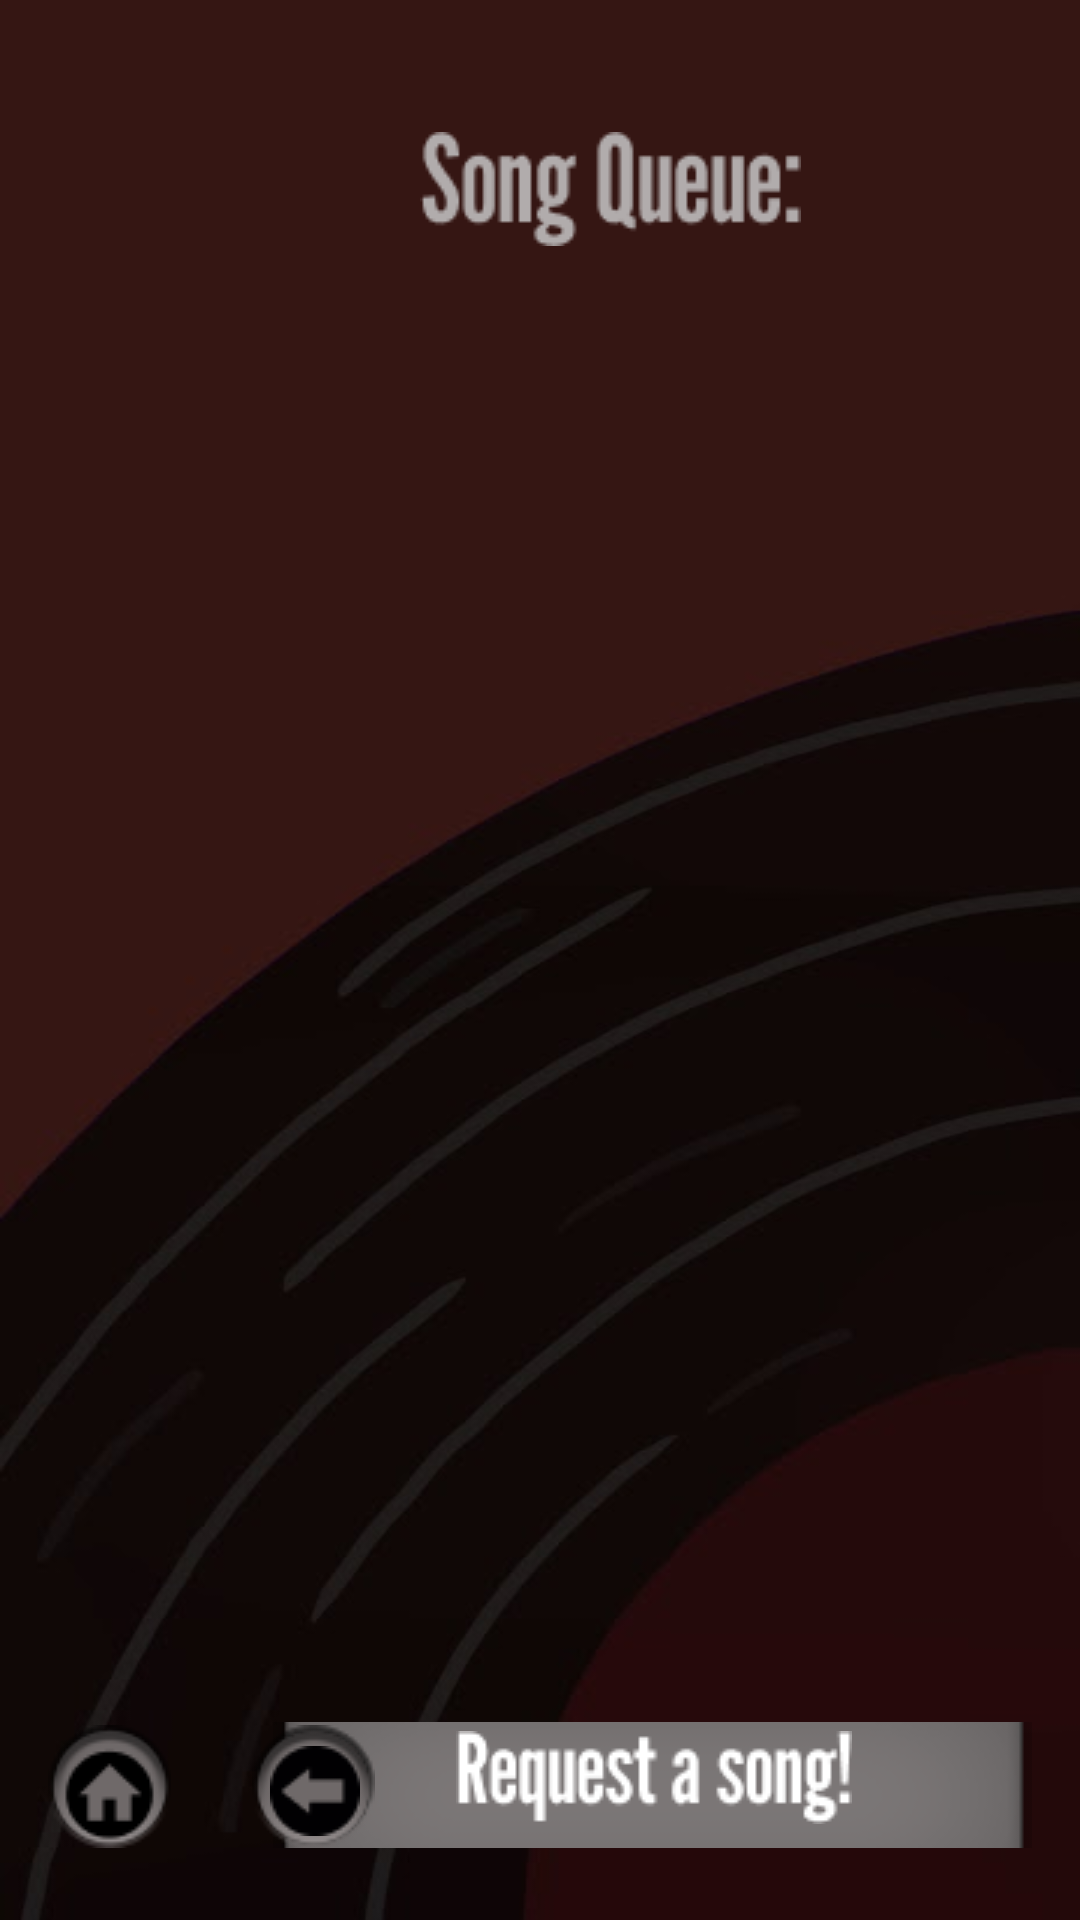

Named icons in this screenshot (1080x1920) and their centers, (x=x, y=y):
back arrow: (x=315, y=1791)
home circle: (x=109, y=1795)
